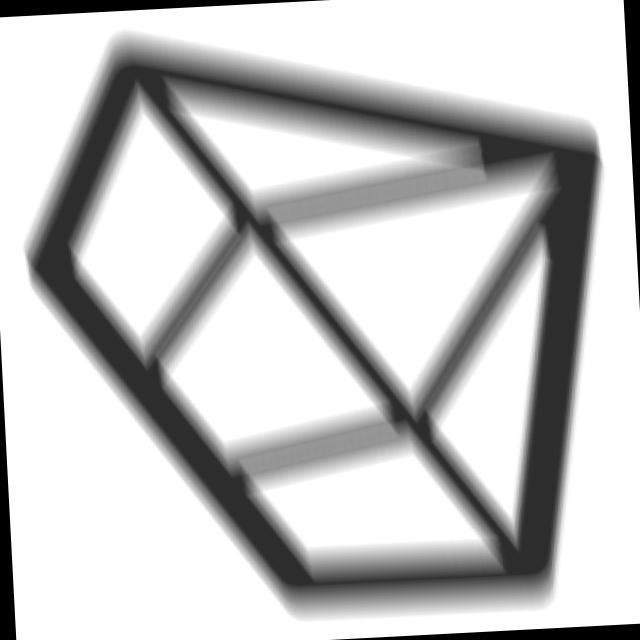diamond: (3, 1, 627, 640)
